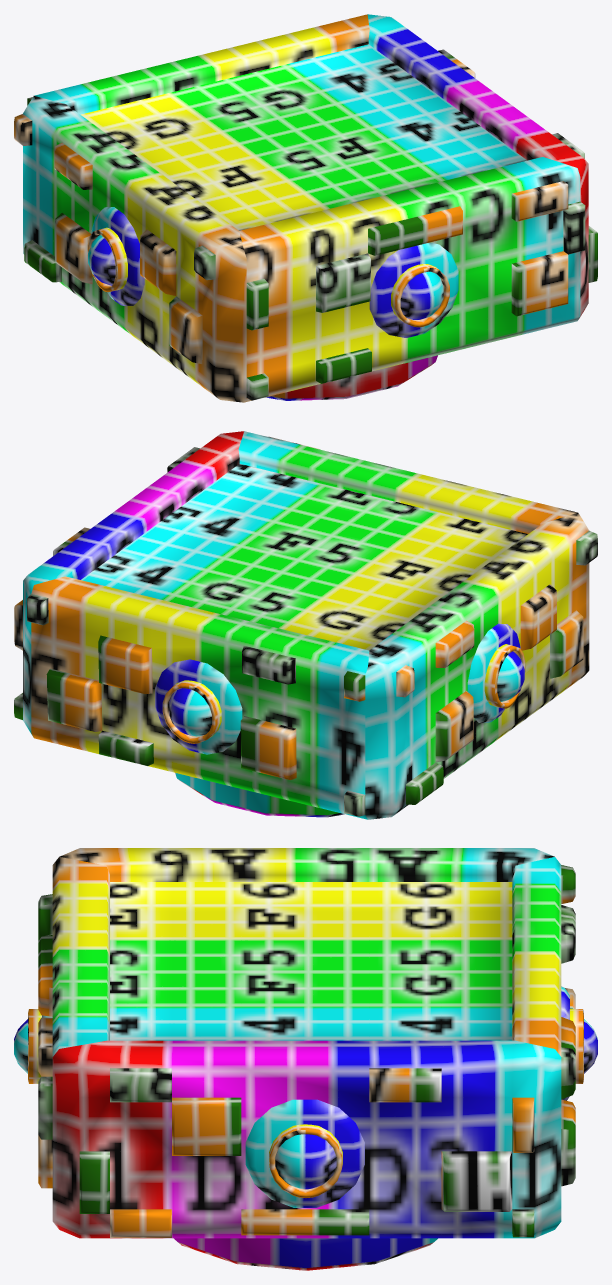
Rendered from Tile_LowCorrectAxis1.FBX.
3 renders of one model, top to bottom at view 1: azimuth 30°, elevation 25°; view 2: azimuth 150°, elevation 25°; view 3: azimuth 270°, elevation 25°, orthographic. The views are drawn at different scales.
Parts seen in each view (by area): view 1: Tile_low; view 2: Tile_low; view 3: Tile_low.
Part boxes in pixels (box(x1,y1,x2,y2)): Tile_low: box(14, 14, 597, 402); Tile_low: box(14, 431, 597, 819); Tile_low: box(14, 848, 597, 1270).
Bounding box in the file's own units: 18.02 × 9.03 × 18.02.
1 material, 1 textured.
